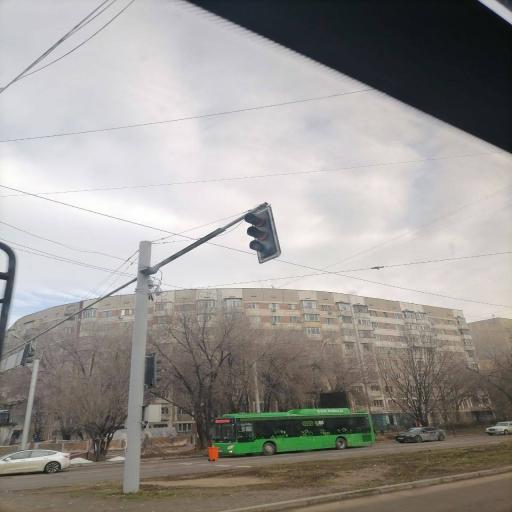book: (0, 448, 70, 475), (395, 426, 446, 444)
elevator: (122, 241, 152, 493)
pole: (244, 203, 281, 263)
